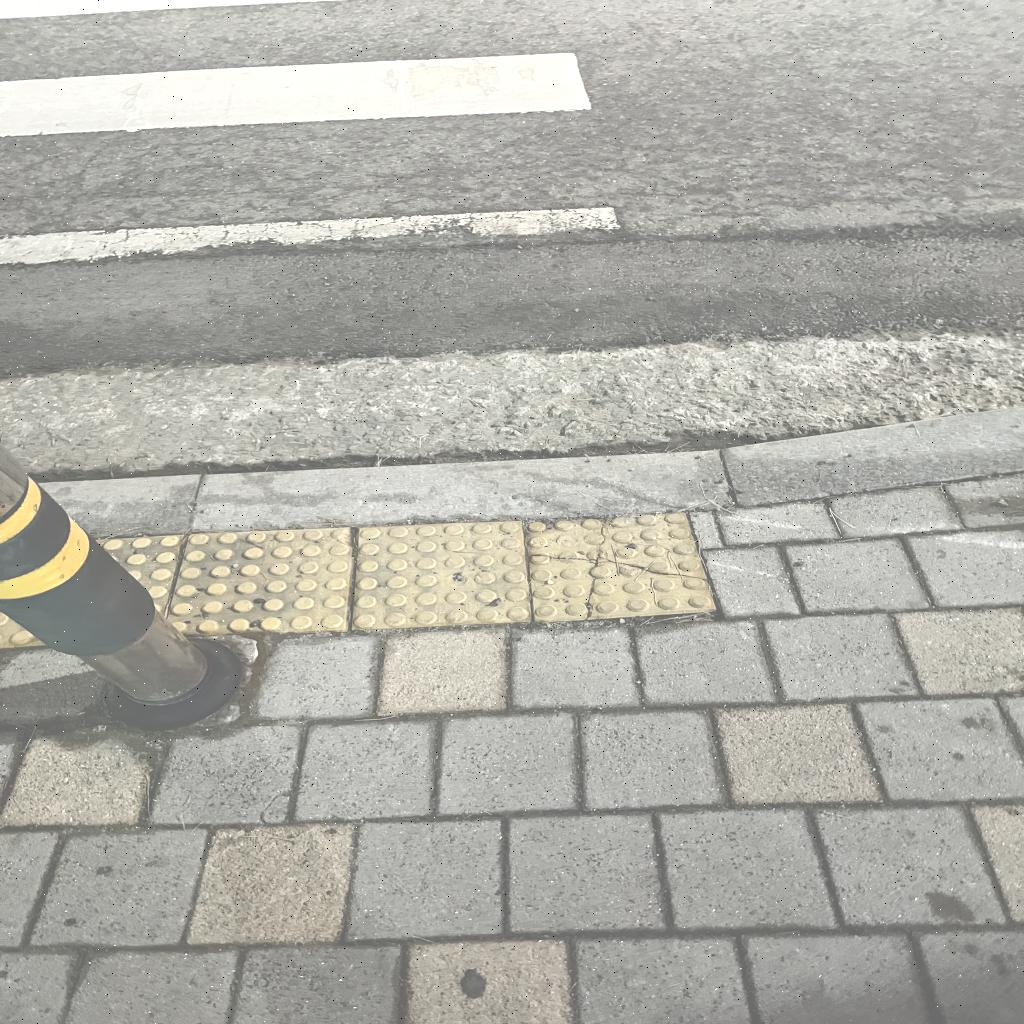Stop block broken: (525, 510, 715, 621)
Stop block normal: (347, 518, 529, 631), (162, 529, 353, 634)
